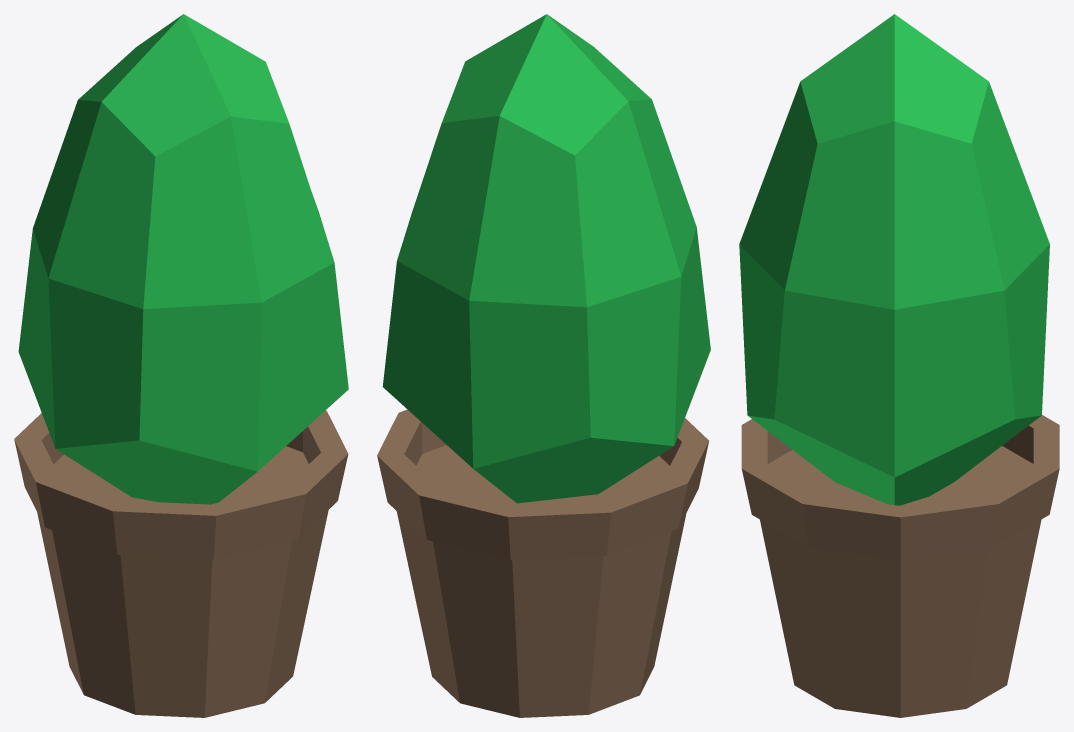
The model's file is Plant001.FBX.
The picture shows the model from 3 angles, left to right: view 1: azimuth 30°, elevation 25°; view 2: azimuth 150°, elevation 25°; view 3: azimuth 270°, elevation 25°; orthographic projection.
Visible parts, largest first — view 1: Plant001; view 2: Plant001; view 3: Plant001.
Boxes of the visible parts, box(x1,y1,x2,y2) form: Plant001: box(14, 14, 348, 717); Plant001: box(377, 14, 710, 717); Plant001: box(739, 14, 1059, 717).
Size of the model in its own units: 19.81 by 42.91 by 18.98.
